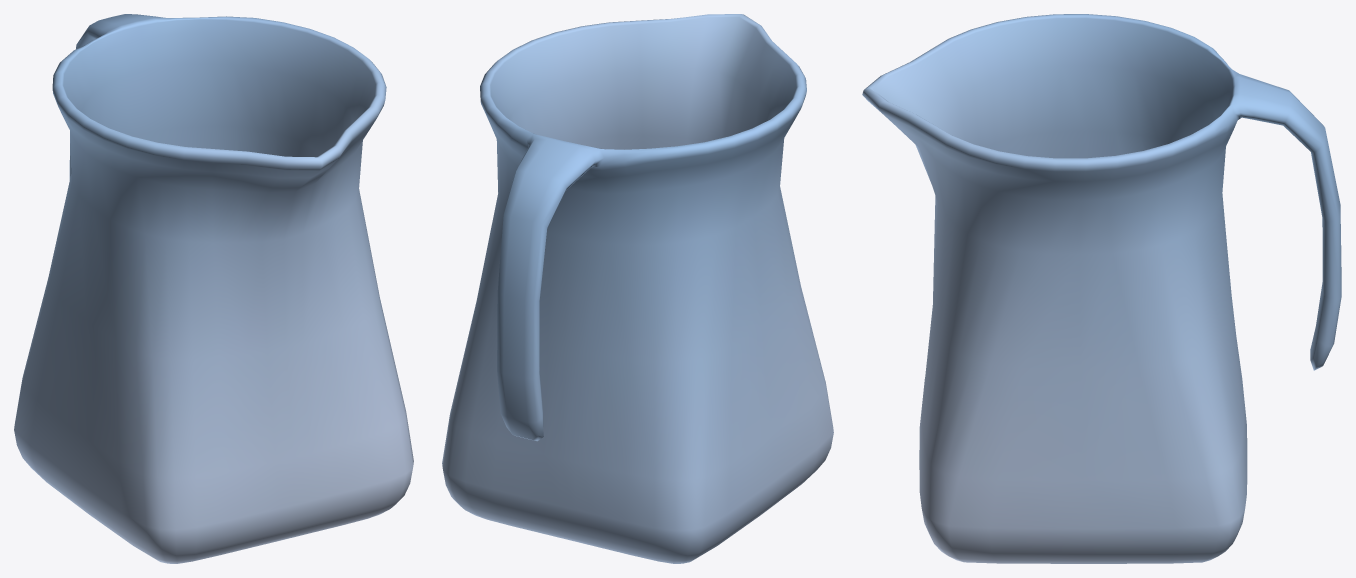
Rendered from Jar_M.fbx.
3 renders of one model, left to right at view 1: azimuth 30°, elevation 25°; view 2: azimuth 150°, elevation 25°; view 3: azimuth 270°, elevation 25°, orthographic. The views are drawn at different scales.
Parts seen in each view (by area): view 1: Jar; view 2: Jar; view 3: Jar.
Part boxes in pixels (x1,y1,x2,y2): Jar: (14, 14, 413, 563); Jar: (442, 14, 833, 563); Jar: (862, 14, 1341, 563).
Size of the model in its own units: 66.17 by 92.75 by 93.57.
Materials: 1 (1 with a texture image).
